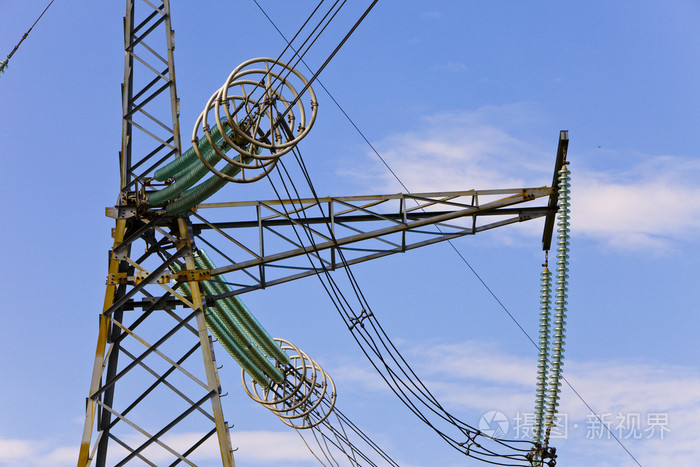insulator: (169, 251, 287, 392), (531, 167, 577, 446), (146, 110, 253, 215)
